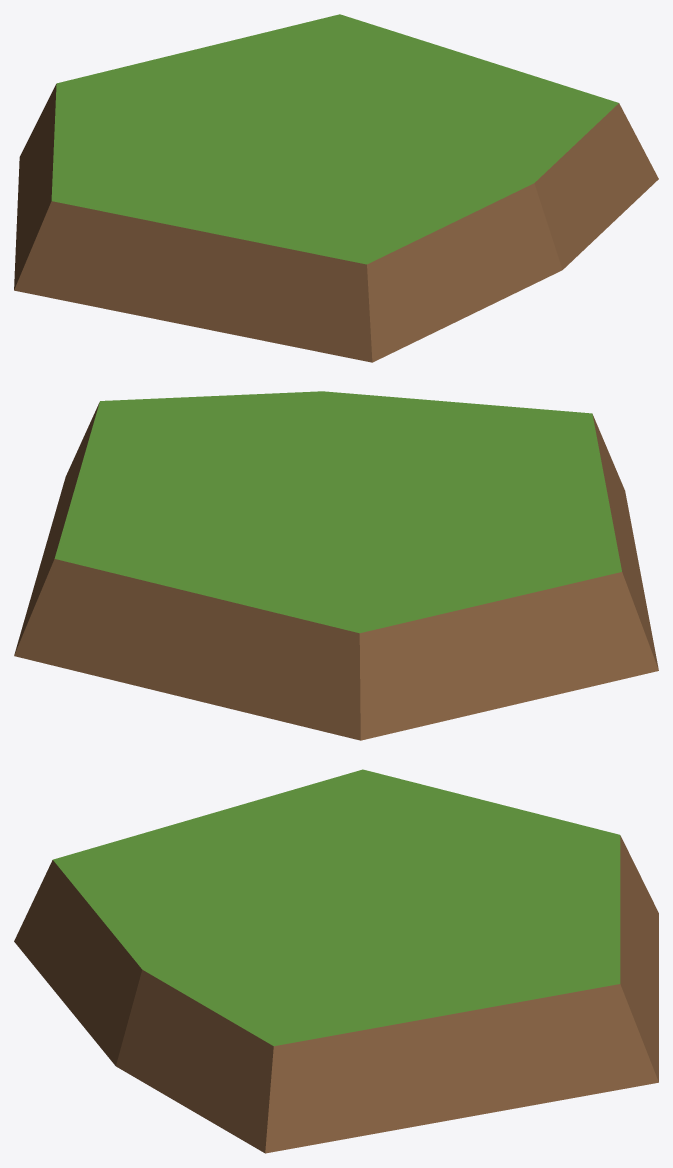
The model's file is rock_smallFlatA.glb.
3 renders of one model, top to bottom at view 1: azimuth 30°, elevation 25°; view 2: azimuth 150°, elevation 25°; view 3: azimuth 270°, elevation 25°, orthographic. The views are drawn at different scales.
Parts seen in each view (by area): view 1: rock_smallFlatA; view 2: rock_smallFlatA; view 3: rock_smallFlatA.
Part boxes in pixels (x1,y1,x2,y2): rock_smallFlatA: (14,14,658,362); rock_smallFlatA: (14,391,658,740); rock_smallFlatA: (14,769,658,1153).
Size of the model in its own units: 0.4958 by 0.0649 by 0.4296.
